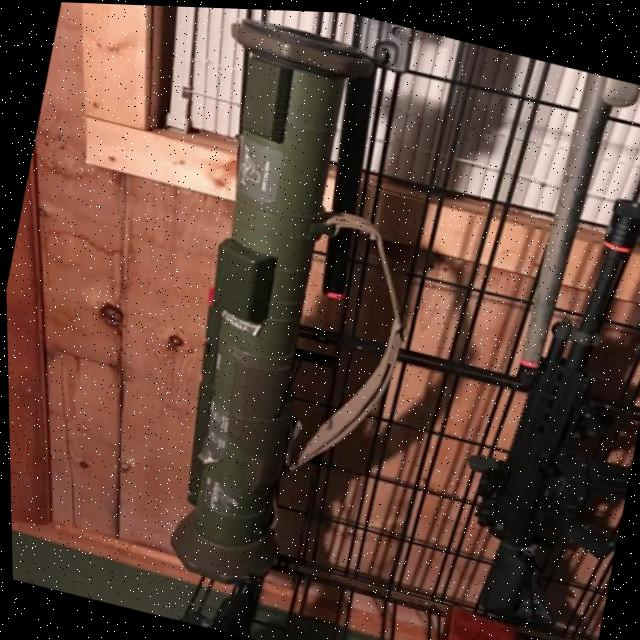rocket: (66, 2, 467, 636)
